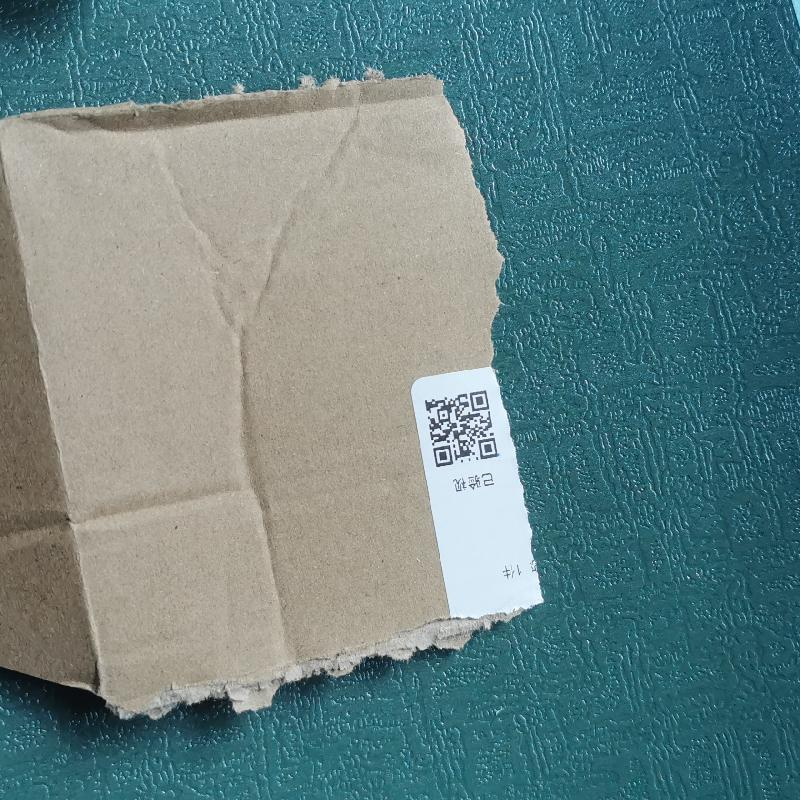boxes: (9, 60, 547, 724)
